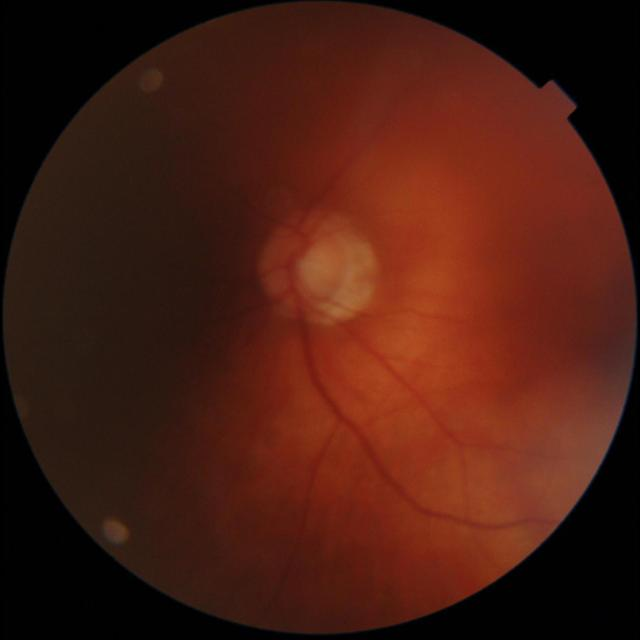OC: (296, 248, 329, 287)
OD: (258, 213, 346, 307)
